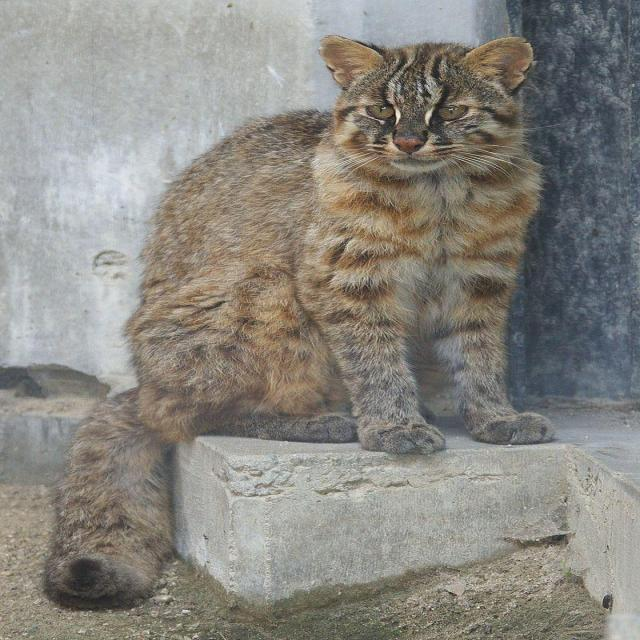leopard: (227, 0, 640, 619)
